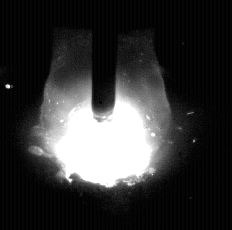arame: (93, 0, 117, 123)
poca: (38, 0, 173, 230)
